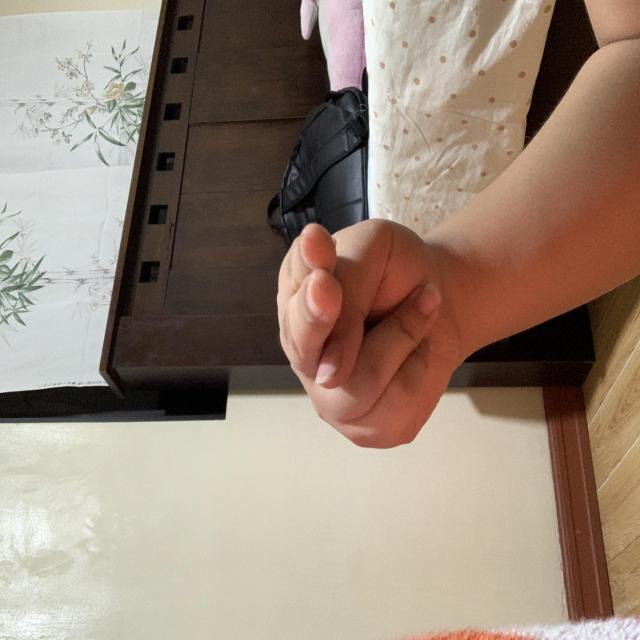N: (221, 276, 449, 461)
